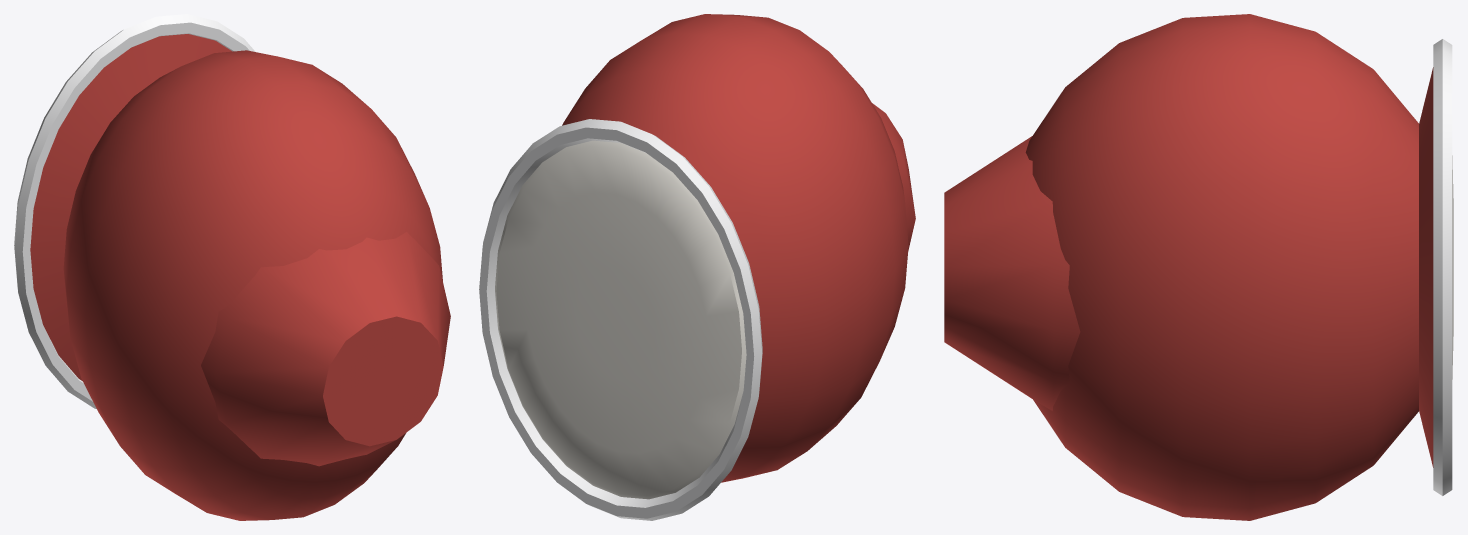
File: bugeye.glb
3 renders of one model, left to right at view 1: azimuth 30°, elevation 25°; view 2: azimuth 150°, elevation 25°; view 3: azimuth 270°, elevation 25°, orthographic. The views are drawn at different scales.
Parts seen in each view (by area): view 1: lod0; view 2: lod0; view 3: lod0.
Part boxes in pixels (left/top/right/bottom): lod0: left=14, top=14, right=450, bottom=520; lod0: left=479, top=14, right=915, bottom=520; lod0: left=944, top=14, right=1453, bottom=520.
Size of what is drawn, in the model's own units: 1.83 by 2.43 by 2.33.
